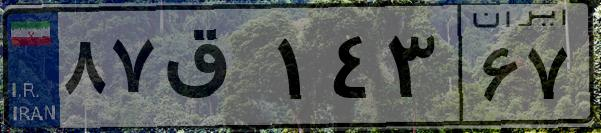1: (270, 28, 330, 110)
3: (385, 28, 445, 110)
4: (330, 28, 385, 110)
6: (475, 38, 525, 113)
7: (525, 38, 570, 115), (110, 28, 158, 98)
8: (57, 26, 110, 100)
ق: (158, 20, 270, 120)
